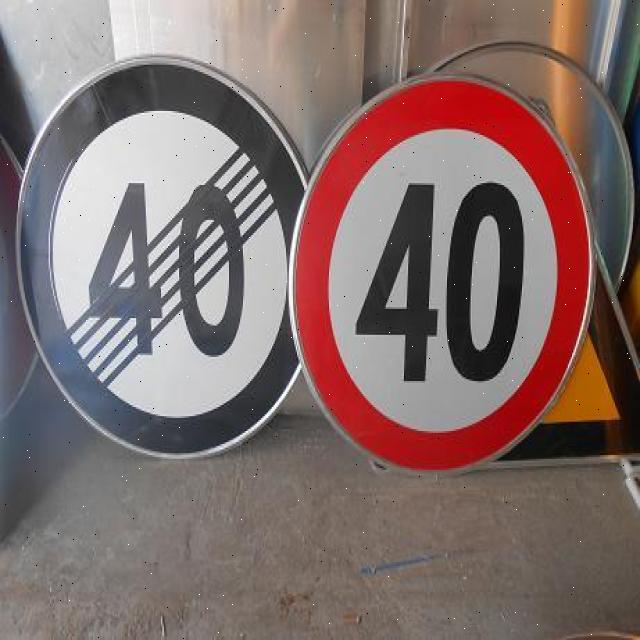speed limit 40: (288, 75, 596, 475)
